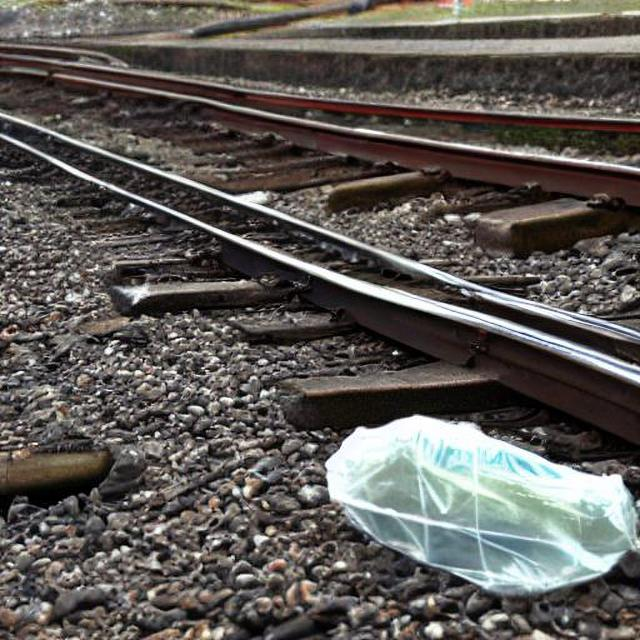plastic bag: (301, 410, 638, 610)
